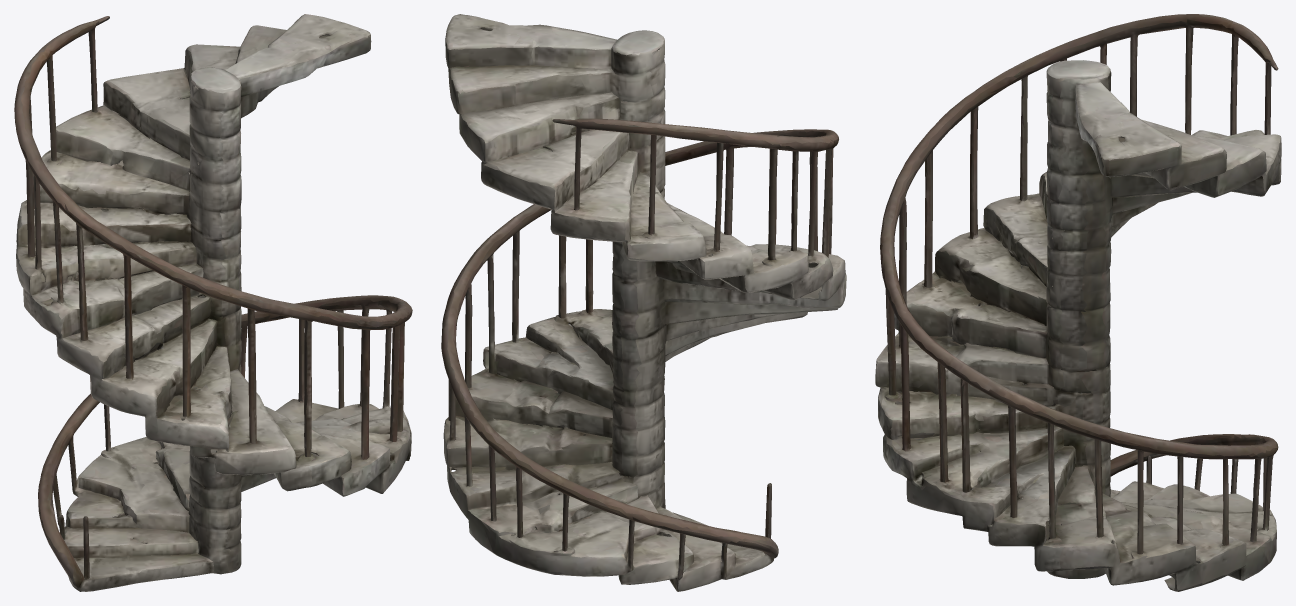
File: obj_basement_stairs.glb
3 renders of one model, left to right at view 1: azimuth 30°, elevation 25°; view 2: azimuth 150°, elevation 25°; view 3: azimuth 270°, elevation 25°, orthographic. The views are drawn at different scales.
Parts seen in each view (by area): view 1: geometry_0; view 2: geometry_0; view 3: geometry_0.
Part boxes in pixels (left/top/right/bottom): geometry_0: left=14, top=14, right=412, bottom=591; geometry_0: left=441, top=14, right=846, bottom=591; geometry_0: left=875, top=14, right=1281, bottom=591.
Bounding box in the file's own units: 2.27 × 3 × 2.2.
1 material, 1 textured.
